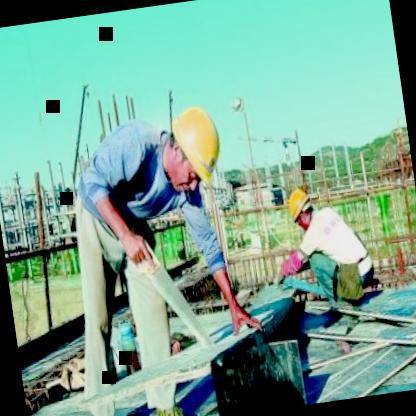helmet: (153, 96, 228, 198), (282, 182, 318, 236)
